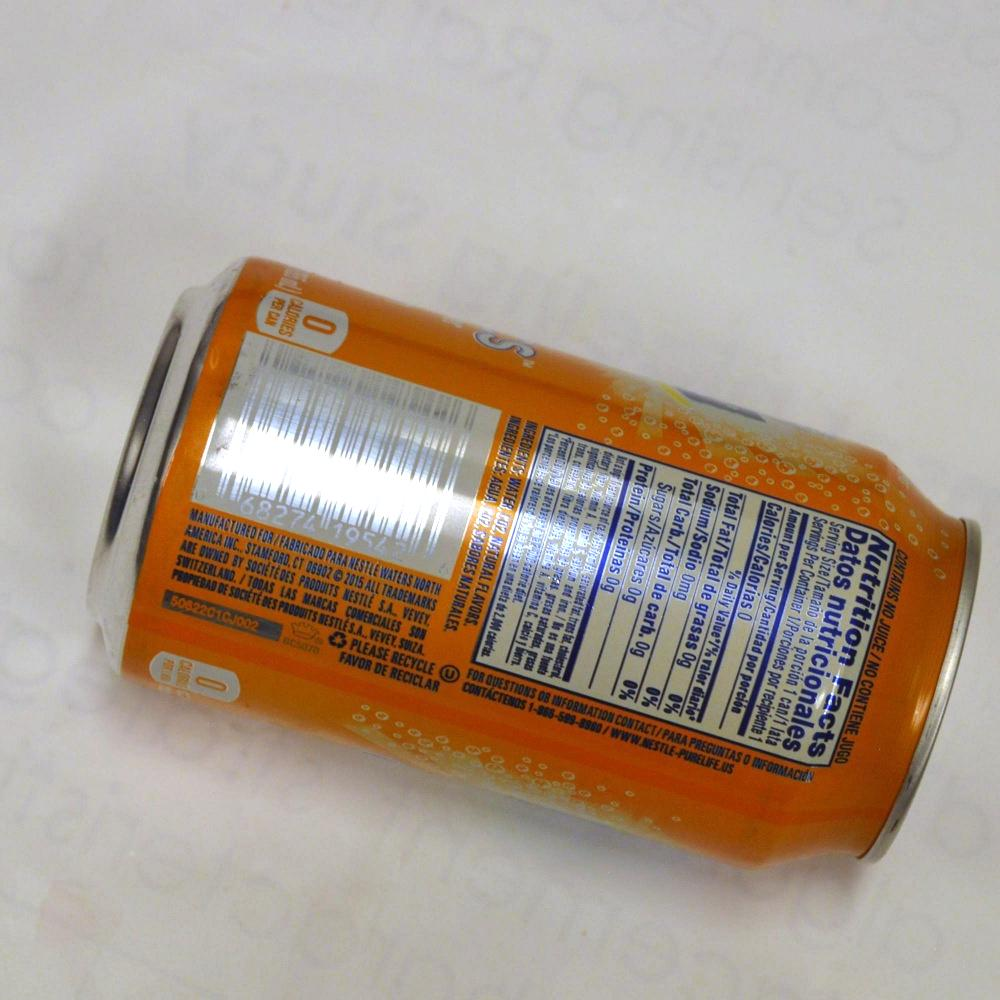Metal: (53, 187, 970, 917)
